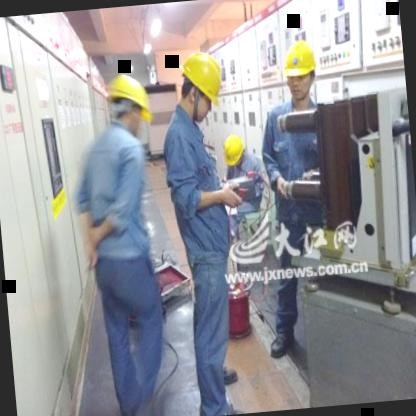helmet: (171, 46, 229, 126), (104, 72, 156, 140), (278, 31, 322, 108), (219, 130, 247, 172)
